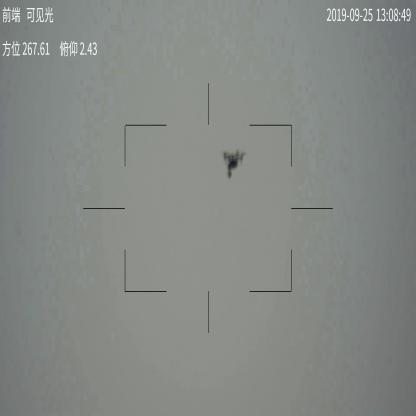uav: (220, 150, 247, 178)
